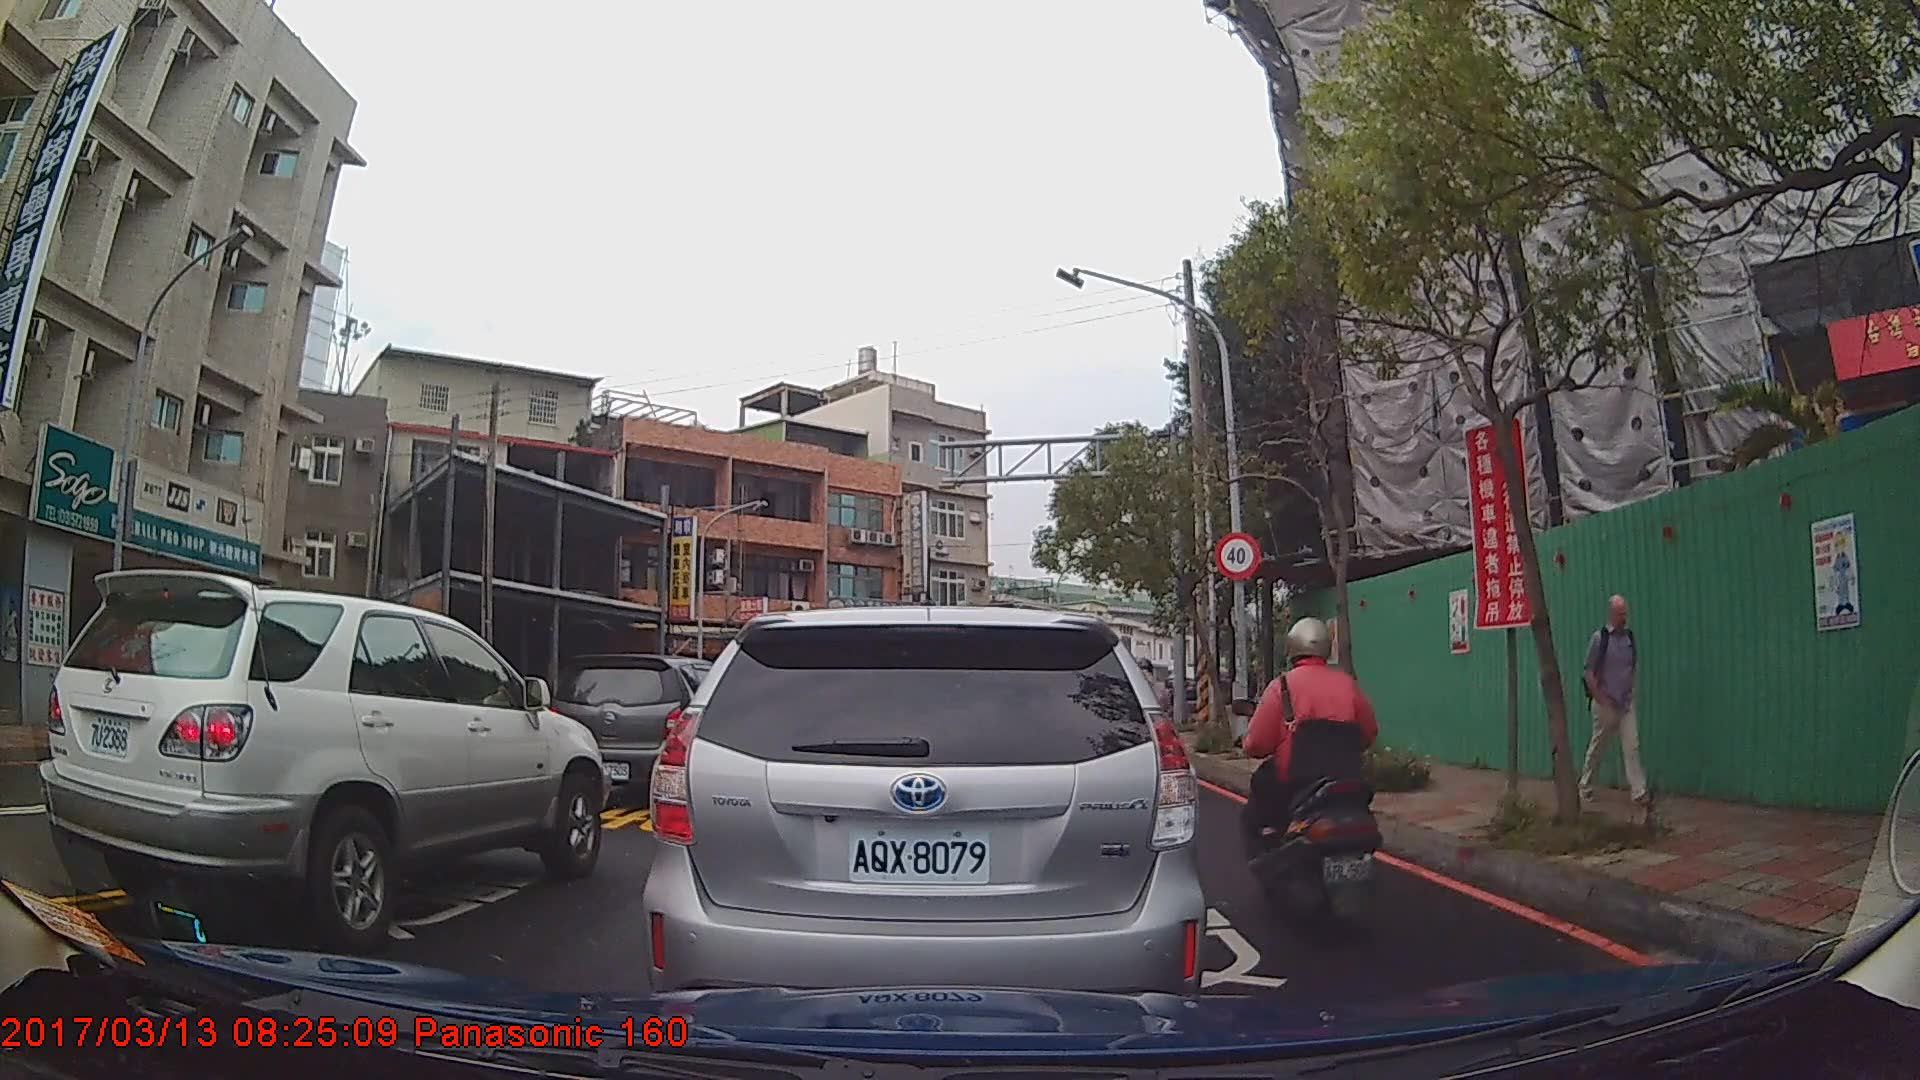pedestrian: (1581, 588, 1640, 809)
rider: (1240, 619, 1387, 948), (1142, 658, 1196, 788)
vehicle: (640, 603, 1205, 1022), (36, 566, 609, 947), (553, 652, 757, 801)
